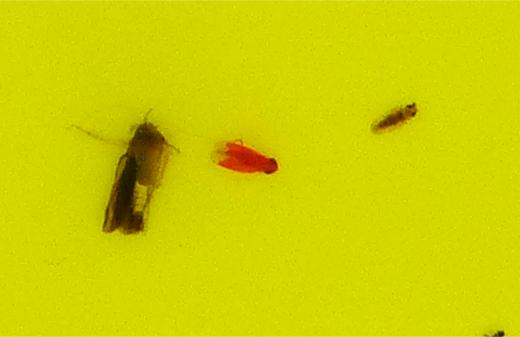Hemiptera: (100, 116, 174, 237), (212, 137, 280, 177), (369, 100, 420, 135)
